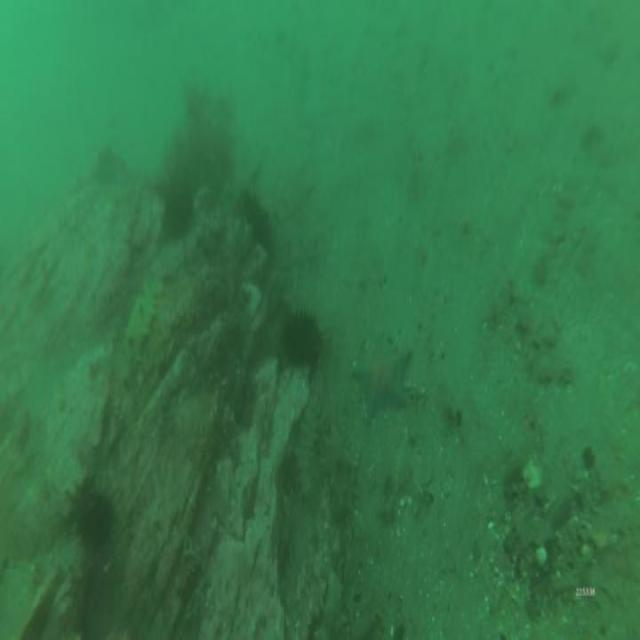echinus: (75, 495, 113, 553), (286, 310, 322, 370), (162, 188, 197, 236), (245, 194, 272, 252)
holothurian: (116, 280, 159, 370), (297, 406, 316, 499)
starfish: (354, 333, 412, 422)
